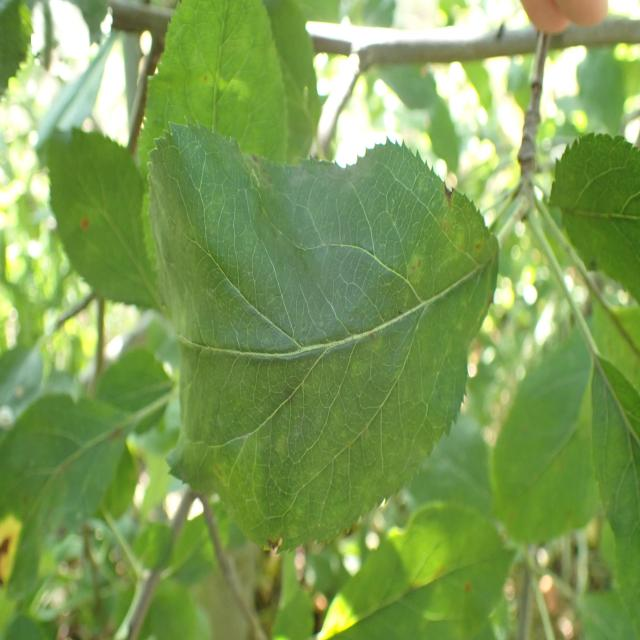scab: (359, 192, 502, 400), (252, 336, 326, 437)
